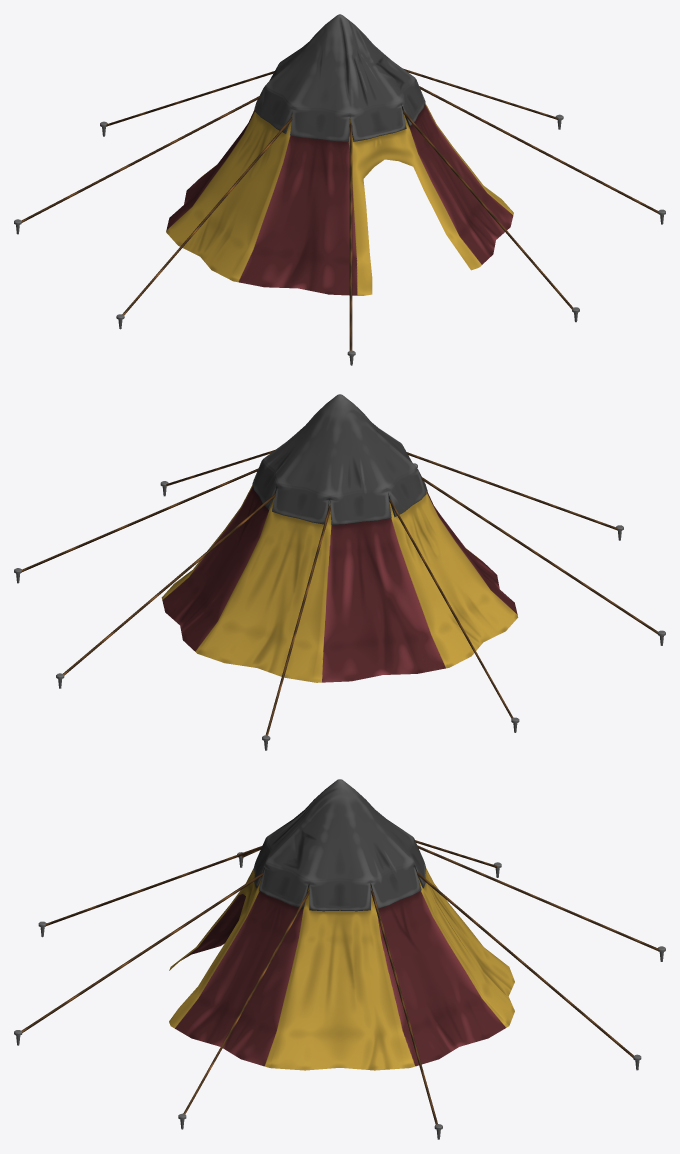
Rendered from Tent.fbx.
3 views of the same model, one above another, from view 1: azimuth 30°, elevation 25°; view 2: azimuth 150°, elevation 25°; view 3: azimuth 270°, elevation 25° (orthographic). The views are drawn at different scales.
Visible parts, largest first — view 1: Tent; view 2: Tent; view 3: Tent.
Part boxes in pixels (x1,y1,x2,y2): Tent: (14,14,665,365); Tent: (14,394,665,750); Tent: (14,779,665,1139).
Size of the model in its own units: 9.86 by 3.73 by 9.86.
